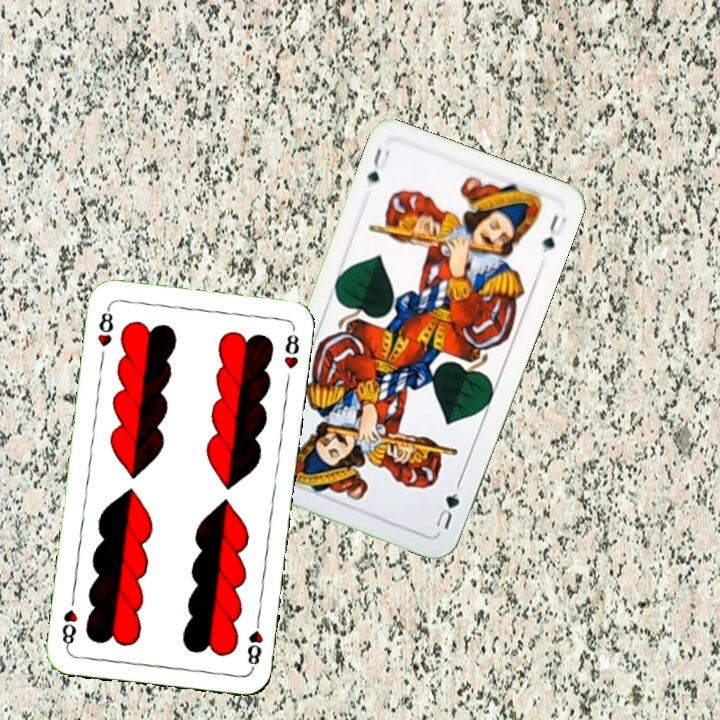GU: (430, 478, 463, 532), (363, 143, 393, 186)
H8: (243, 613, 265, 672), (93, 302, 116, 350)
